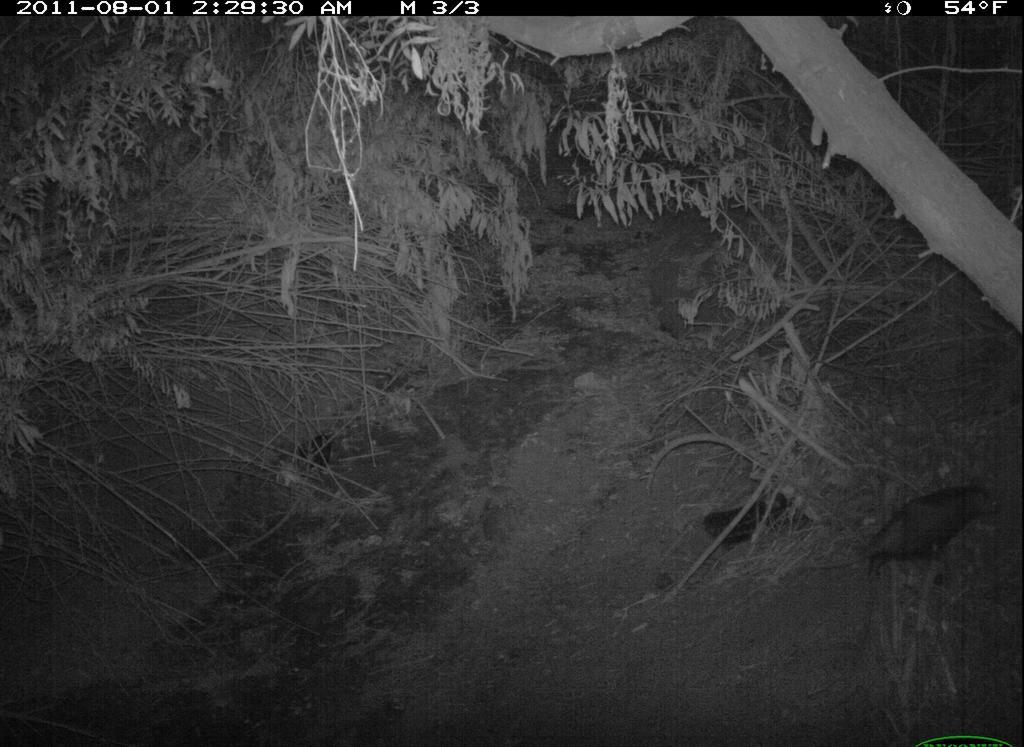opossum: (812, 466, 1019, 612)
